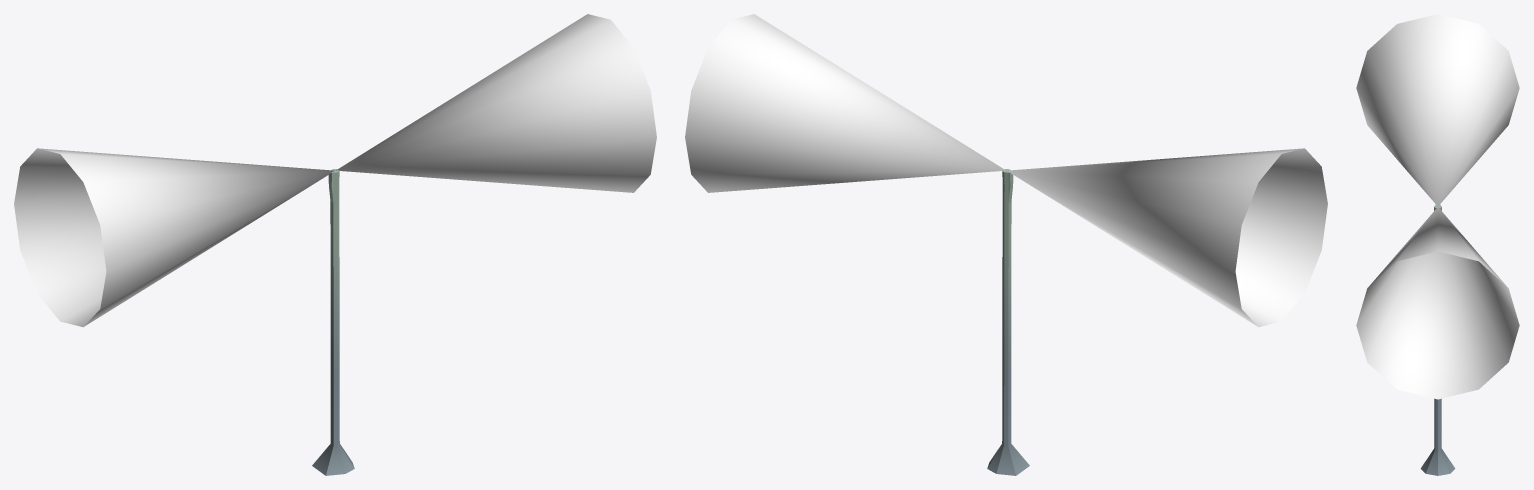
Rendered from Light_Pulsar.fbx.
3 views of the same model, side by side, from view 1: azimuth 30°, elevation 25°; view 2: azimuth 150°, elevation 25°; view 3: azimuth 270°, elevation 25° (orthographic). The views are drawn at different scales.
Visible parts, largest first — view 1: light_cone, Camp_Light1; view 2: light_cone, Camp_Light1; view 3: light_cone, Camp_Light1.
Part boxes in pixels (left/top/right/bottom): light_cone: left=14, top=14, right=656, bottom=327; Camp_Light1: left=312, top=169, right=354, bottom=475; light_cone: left=685, top=14, right=1327, bottom=327; Camp_Light1: left=987, top=169, right=1029, bottom=475; light_cone: left=1356, top=14, right=1519, bottom=399; Camp_Light1: left=1420, top=204, right=1455, bottom=475.
Size of the model in its own units: 43.46 by 28.66 by 12.64.
2 materials, 2 textured.
